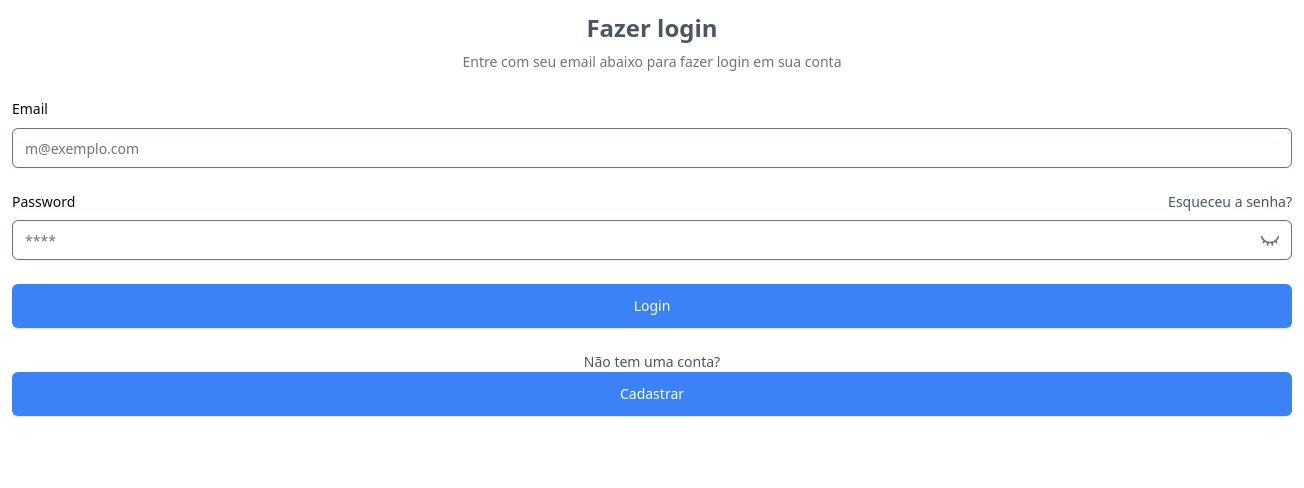
Test case: <LoginForm /> › should show validation errors when fields are empty
Click the button "Login": (652, 306) [12,284,1292,328]
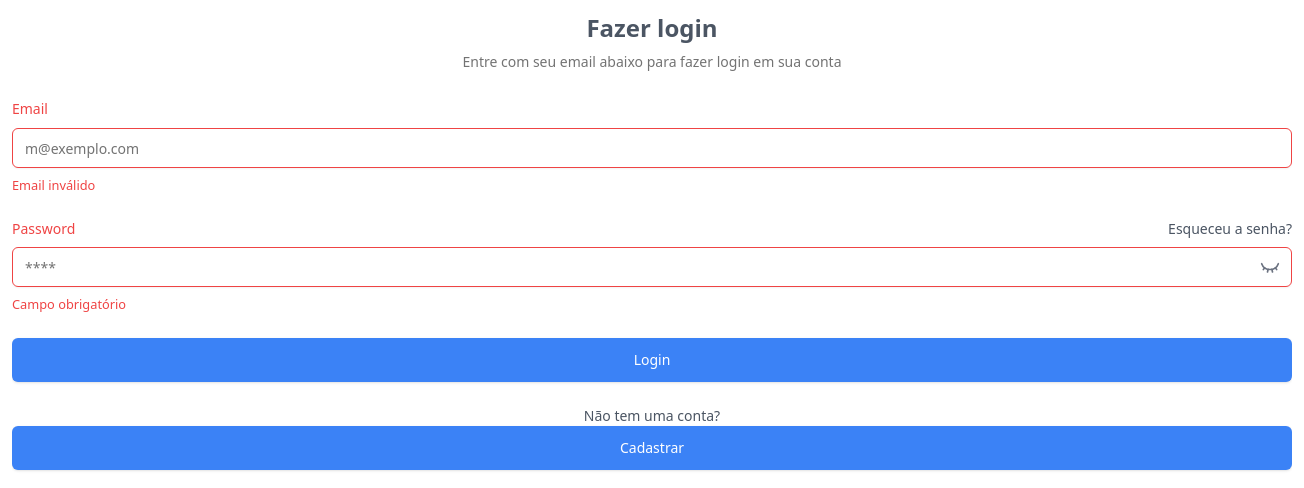
Now the text "Campo obrigatório" is shown, box [12,295,126,313]
Now the text "Email inválido" is shown, box [12,176,95,194]
